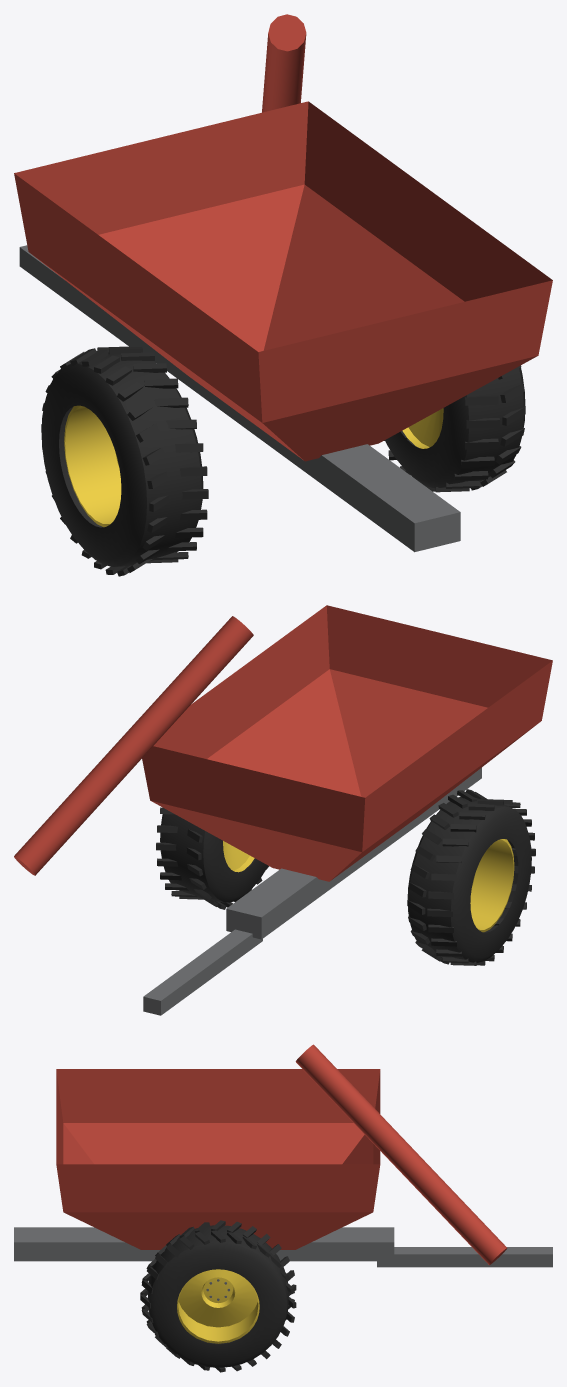
The model's file is graincart.glb.
3 renders of one model, top to bottom at view 1: azimuth 30°, elevation 25°; view 2: azimuth 150°, elevation 25°; view 3: azimuth 270°, elevation 25°, orthographic. The views are drawn at different scales.
Parts seen in each view (by area): view 1: cart_body, wheel_L_t, wheel_R_t; view 2: cart_body, wheel_L_t, wheel_R_t; view 3: cart_body, wheel_R_t.
Part boxes in pixels (x1,y1,x2,y2): cart_body: (14, 14, 552, 552); wheel_L_t: (41, 346, 208, 576); wheel_R_t: (384, 365, 525, 492); cart_body: (14, 605, 552, 1015); wheel_L_t: (407, 789, 535, 965); wheel_R_t: (156, 807, 269, 909); cart_body: (14, 1044, 552, 1267); wheel_R_t: (140, 1220, 296, 1372).
Size of the model in its own units: 4.52 by 4.52 by 7.65.
